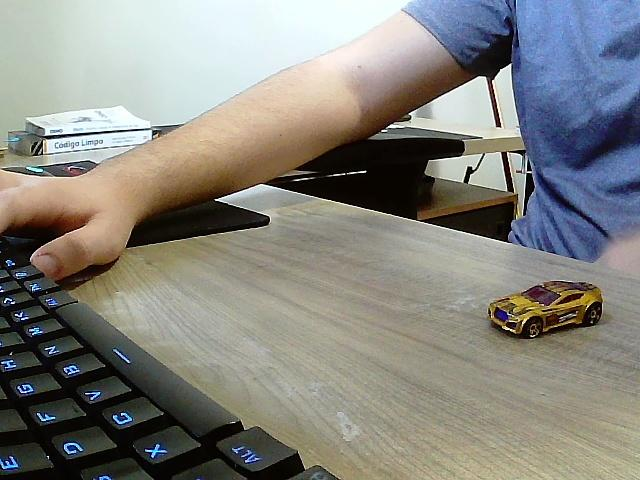Carro: (487, 282, 605, 341)
